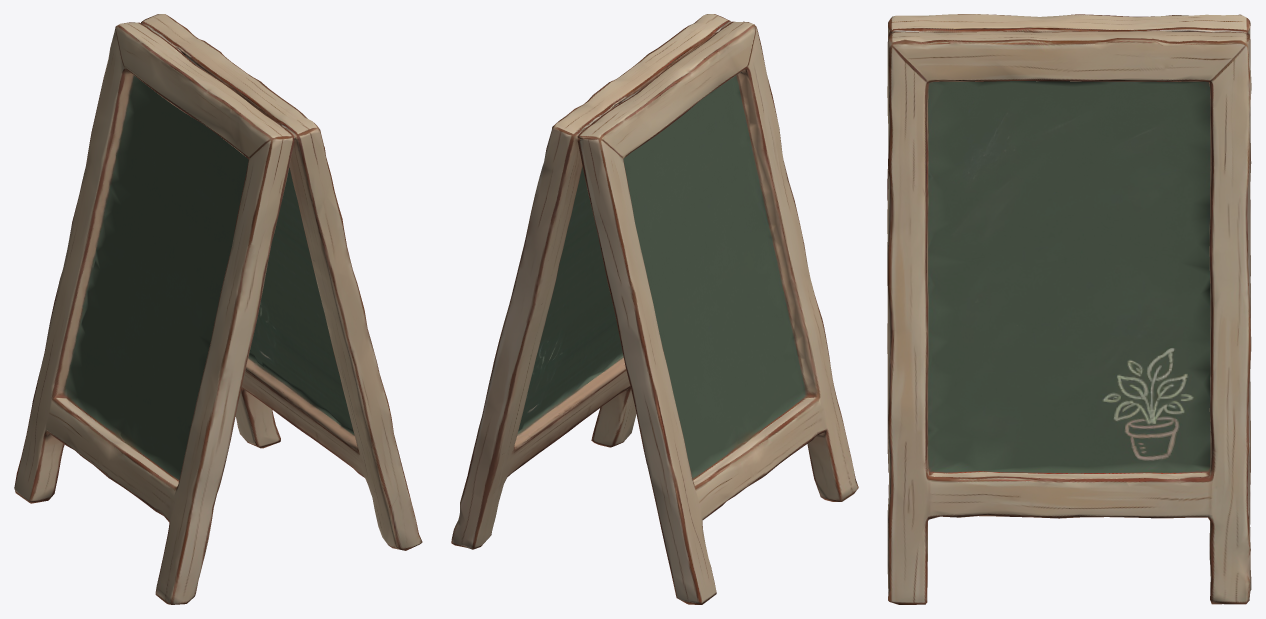
The model's file is raw_shop_sign_aframe.glb.
3 views of the same model, side by side, from view 1: azimuth 30°, elevation 25°; view 2: azimuth 150°, elevation 25°; view 3: azimuth 270°, elevation 25° (orthographic). The views are drawn at different scales.
Parts seen in each view (by area): view 1: tripo_node_5e0679f1-218d-48f1-8192-31e544fcb0ae; view 2: tripo_node_5e0679f1-218d-48f1-8192-31e544fcb0ae; view 3: tripo_node_5e0679f1-218d-48f1-8192-31e544fcb0ae.
Part boxes in pixels (bbox=[...]): tripo_node_5e0679f1-218d-48f1-8192-31e544fcb0ae: bbox=[14, 14, 422, 604]; tripo_node_5e0679f1-218d-48f1-8192-31e544fcb0ae: bbox=[451, 14, 858, 604]; tripo_node_5e0679f1-218d-48f1-8192-31e544fcb0ae: bbox=[887, 14, 1251, 604].
Size of the model in its own units: 0.5872 by 1 by 0.6454.
1 material, 1 textured.
